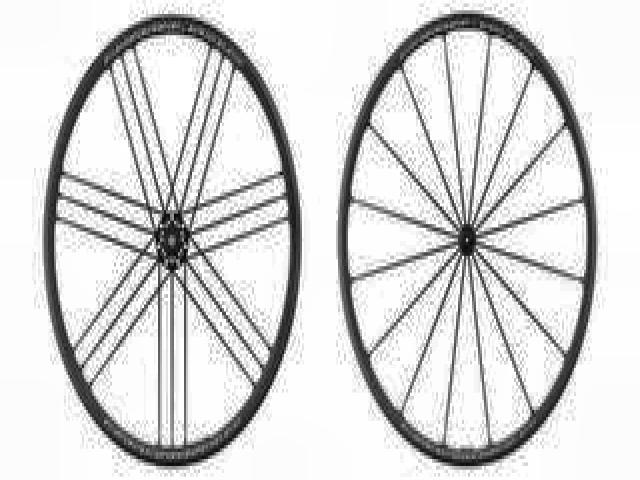wheel: (335, 8, 600, 472), (40, 15, 304, 471)
